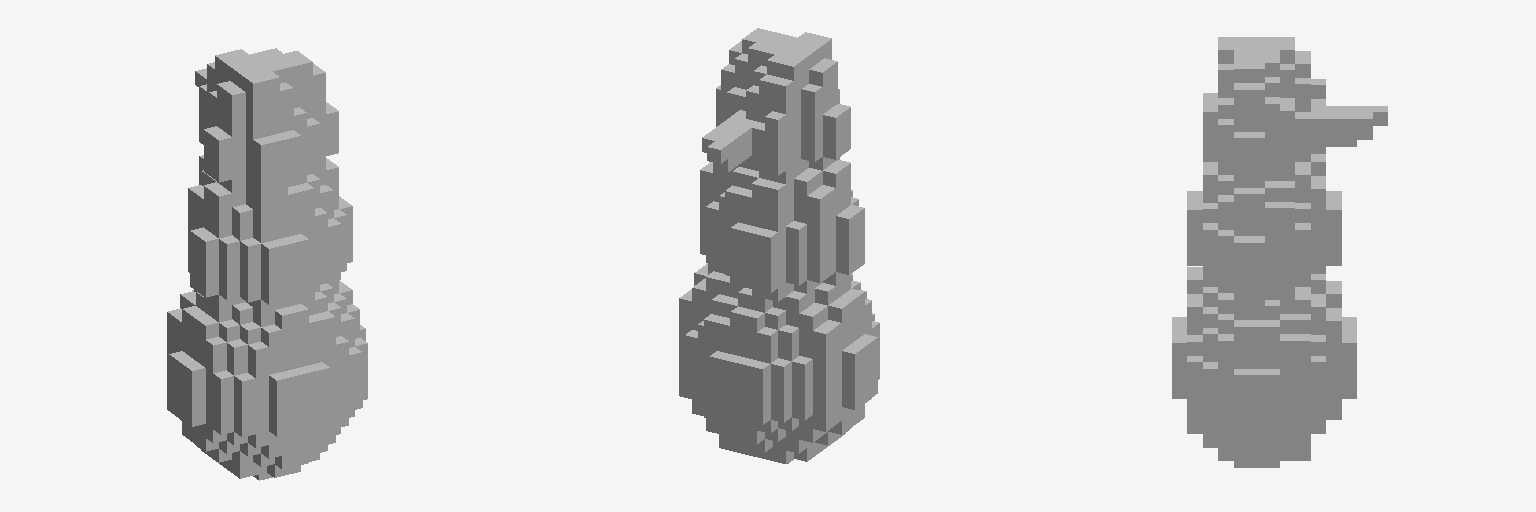
The model's file is Snowman.obj.
The picture shows the model from 3 angles: view 1: azimuth 30°, elevation 25°; view 2: azimuth 150°, elevation 25°; view 3: azimuth 270°, elevation 25°; orthographic projection.
Visible parts, largest first — view 1: object 1; view 2: object 1; view 3: object 1.
Part boxes in pixels (bbox=[...]): object 1: bbox=[167, 48, 367, 480]; object 1: bbox=[679, 28, 879, 463]; object 1: bbox=[1172, 37, 1387, 467].
Bounding box in the file's own units: 1.3 × 2.9 × 1.4.